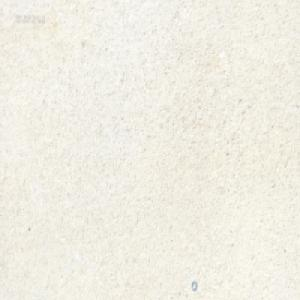Washer: (190, 279, 197, 291)
